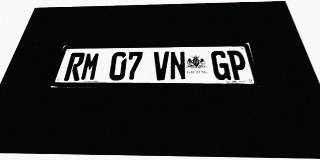0: (108, 52, 128, 81)
7: (125, 52, 143, 80)
G: (211, 51, 231, 80)
M: (80, 52, 101, 81)
N: (170, 51, 187, 80)
P: (227, 50, 249, 80)
R: (63, 52, 86, 81)
V: (153, 51, 169, 80)
